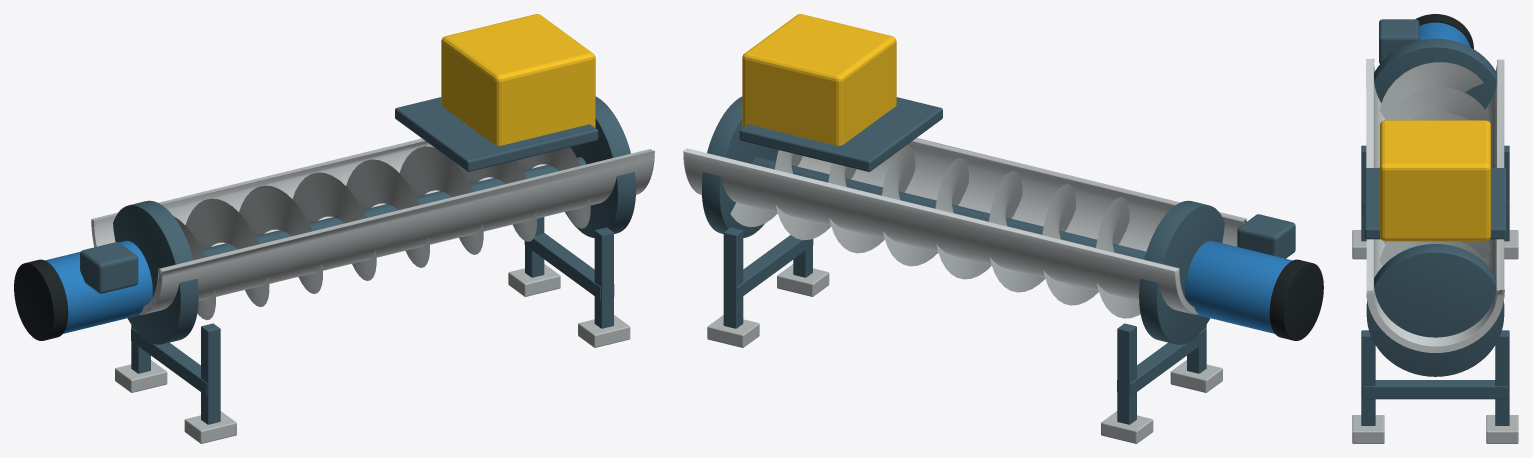
The model's file is open_trough_screw_conveyor.glb.
3 views of the same model, side by side, from view 1: azimuth 30°, elevation 25°; view 2: azimuth 150°, elevation 25°; view 3: azimuth 270°, elevation 25° (orthographic). The views are drawn at different scales.
Visible parts, largest first — view 1: OPEN_U_TROUGH, AUGER_HELICAL_FLIGHT, INLET_HOPPER, END_BEARING_-1.2, PARTIAL_COVER, SCREW_DRIVE_MOTOR, END_BEARING_1.2, SCREW_DRIVE_FAN, SCREW_DRIVE_TERMINAL, KIN_SCREW_SHAFT, LEG_-1.08_-0.3312, LEG_1.08_-0.3312 (+7 smaller); view 2: OPEN_U_TROUGH, INLET_HOPPER, AUGER_HELICAL_FLIGHT, SCREW_DRIVE_MOTOR, END_BEARING_-1.2, PARTIAL_COVER, END_BEARING_1.2, SCREW_DRIVE_FAN, KIN_SCREW_SHAFT, SCREW_DRIVE_TERMINAL, LEG_1.08_0.3312, LEG_-1.08_0.3312 (+6 smaller); view 3: INLET_HOPPER, END_BEARING_1.2, OPEN_U_TROUGH, AUGER_HELICAL_FLIGHT, END_BEARING_-1.2, CROSS_1.08, PARTIAL_COVER, SCREW_DRIVE_TERMINAL, LEG_1.08_0.3312, LEG_1.08_-0.3312, FOOT_1.08_0.3312, FOOT_1.08_-0.3312 (+6 smaller).
Part boxes in pixels (left/top/right/bottom): OPEN_U_TROUGH: left=91, top=138, right=654, bottom=314; AUGER_HELICAL_FLIGHT: left=173, top=146, right=590, bottom=320; INLET_HOPPER: left=441, top=14, right=595, bottom=145; END_BEARING_-1.2: left=113, top=200, right=198, bottom=344; PARTIAL_COVER: left=395, top=97, right=598, bottom=171; SCREW_DRIVE_MOTOR: left=45, top=240, right=152, bottom=333; END_BEARING_1.2: left=565, top=96, right=635, bottom=237; SCREW_DRIVE_FAN: left=14, top=259, right=68, bottom=340; SCREW_DRIVE_TERMINAL: left=80, top=242, right=138, bottom=293; KIN_SCREW_SHAFT: left=202, top=157, right=586, bottom=257; LEG_-1.08_-0.3312: left=201, top=323, right=220, bottom=424; LEG_1.08_-0.3312: left=594, top=227, right=613, bottom=328; OPEN_U_TROUGH: left=683, top=138, right=1247, bottom=314; INLET_HOPPER: left=742, top=14, right=896, bottom=145; AUGER_HELICAL_FLIGHT: left=730, top=145, right=1140, bottom=318; SCREW_DRIVE_MOTOR: left=1185, top=240, right=1292, bottom=333; END_BEARING_-1.2: left=1139, top=200, right=1224, bottom=344; PARTIAL_COVER: left=739, top=97, right=942, bottom=171; END_BEARING_1.2: left=702, top=96, right=778, bottom=237; SCREW_DRIVE_FAN: left=1269, top=259, right=1323, bottom=340; KIN_SCREW_SHAFT: left=751, top=157, right=1146, bottom=259; SCREW_DRIVE_TERMINAL: left=1237, top=214, right=1295, bottom=258; LEG_1.08_0.3312: left=723, top=227, right=743, bottom=328; LEG_-1.08_0.3312: left=1117, top=323, right=1136, bottom=424; INLET_HOPPER: left=1380, top=120, right=1490, bottom=241; END_BEARING_1.2: left=1366, top=244, right=1504, bottom=376; OPEN_U_TROUGH: left=1366, top=58, right=1504, bottom=352; AUGER_HELICAL_FLIGHT: left=1380, top=62, right=1490, bottom=265; END_BEARING_-1.2: left=1374, top=38, right=1496, bottom=109; CROSS_1.08: left=1362, top=380, right=1508, bottom=399; PARTIAL_COVER: left=1364, top=168, right=1506, bottom=239; SCREW_DRIVE_TERMINAL: left=1379, top=19, right=1419, bottom=63; LEG_1.08_0.3312: left=1495, top=330, right=1509, bottom=425; LEG_1.08_-0.3312: left=1361, top=330, right=1375, bottom=425; FOOT_1.08_0.3312: left=1486, top=415, right=1518, bottom=443; FOOT_1.08_-0.3312: left=1352, top=415, right=1384, bottom=443.
Bounding box in the file's own units: 3.21 × 1.47 × 0.8224.
